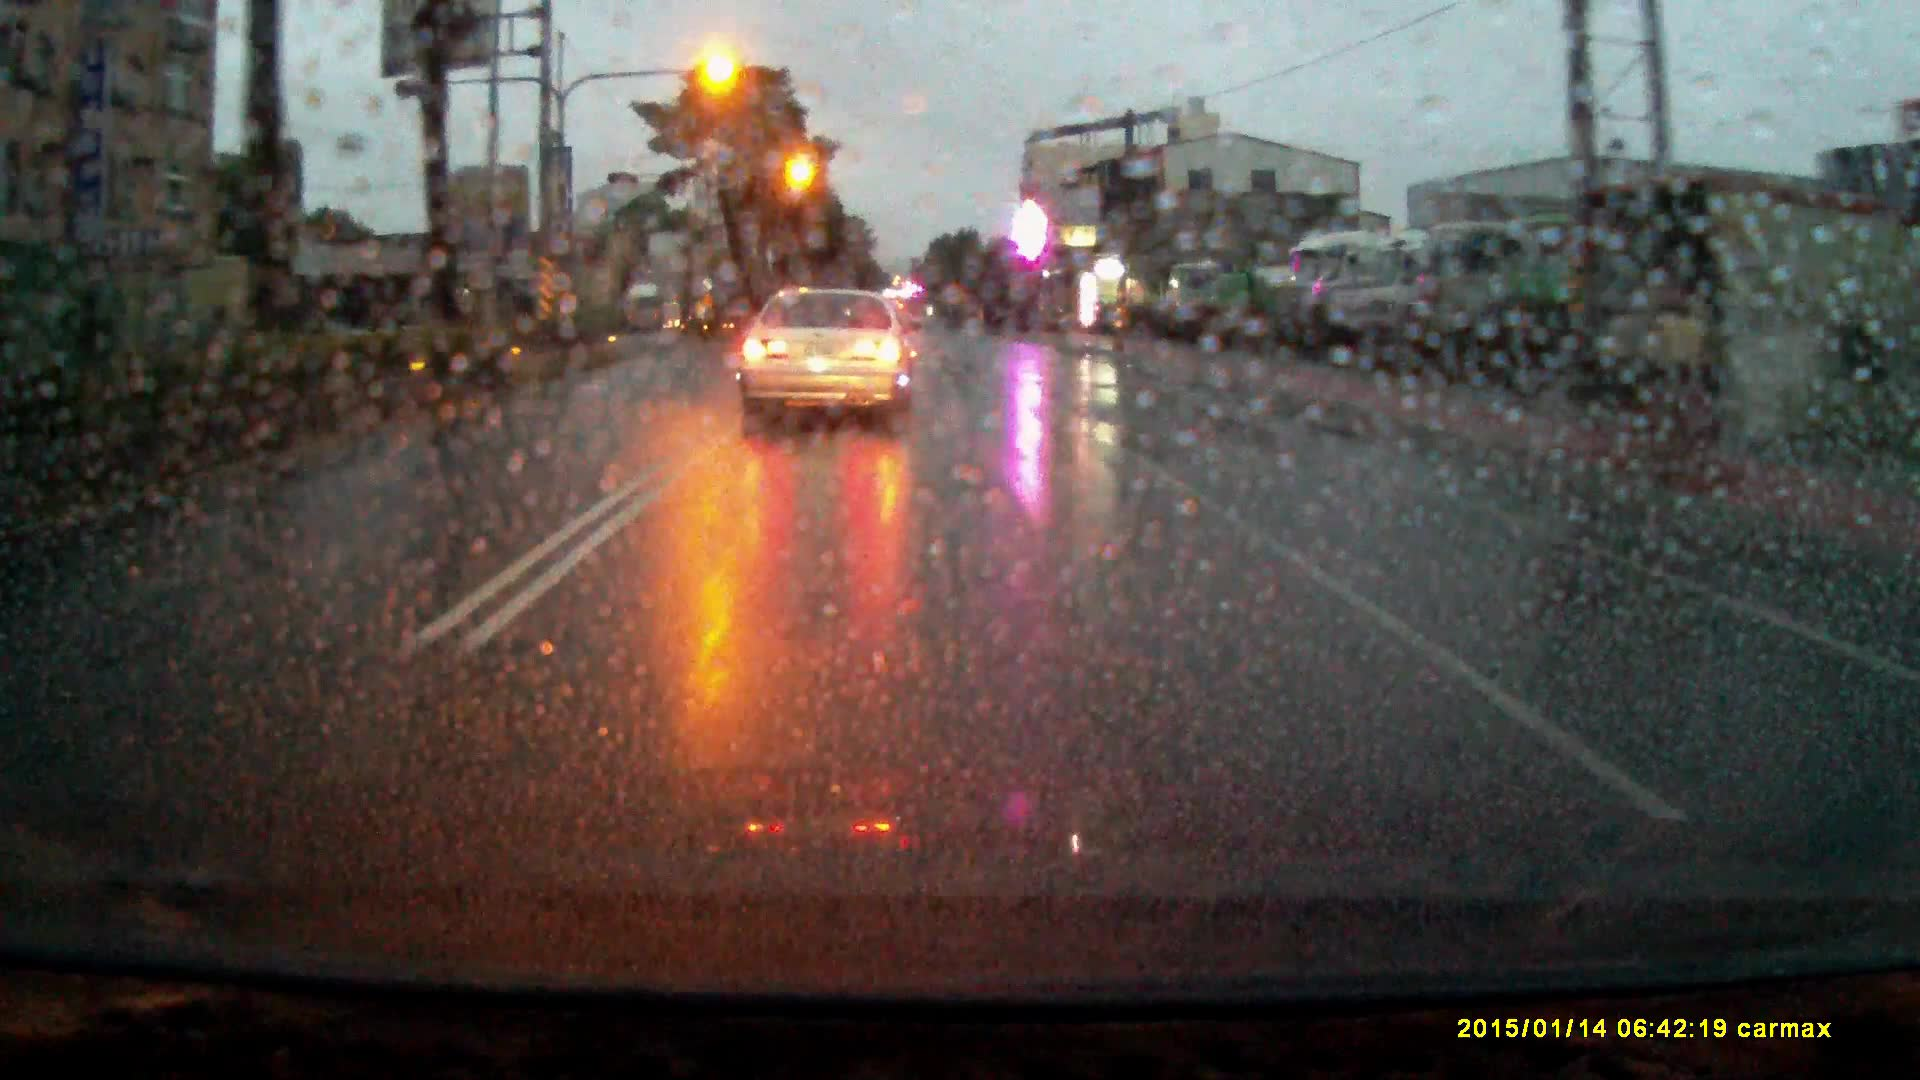vehicle: (738, 289, 920, 434), (1418, 225, 1534, 378), (1337, 233, 1433, 360), (1295, 237, 1382, 345), (1207, 268, 1303, 328), (1168, 260, 1229, 334), (626, 286, 682, 334)
